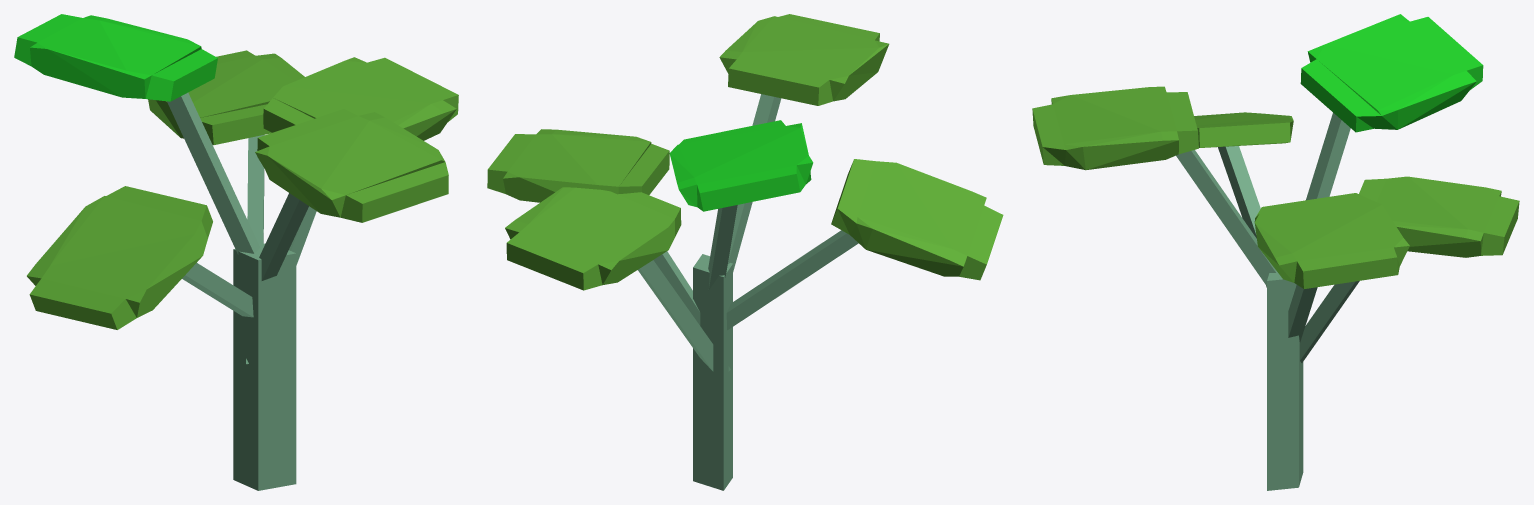
Rendered from ヤツデ面200.fbx.
3 renders of one model, left to right at view 1: azimuth 30°, elevation 25°; view 2: azimuth 150°, elevation 25°; view 3: azimuth 270°, elevation 25°, orthographic. The views are drawn at different scales.
Visible parts, largest first — view 1: 立方体.005, 立方体.004, 立方体.031, 立方体.007, 立方体.010, 立方体.002, 立方体.008, 立方体.001, 立方体.006, 立方体.003, 立方体.009; view 2: 立方体.005, 立方体.002, 立方体.004, 立方体.010, 立方体.007, 立方体.031, 立方体.006, 立方体.003, 立方体.008, 立方体.001, 立方体.009; view 3: 立方体.007, 立方体.004, 立方体.010, 立方体.002, 立方体.031, 立方体.005, 立方体.001, 立方体.008, 立方体.006, 立方体.003, 立方体.009.
Boxes of the visible parts, <box> form: 立方体.005: <box>27,186,212,329</box>; 立方体.004: <box>255,109,448,222</box>; 立方体.031: <box>233,243,296,490</box>; 立方体.007: <box>14,14,217,101</box>; 立方体.010: <box>263,57,458,140</box>; 立方体.002: <box>148,50,304,145</box>; 立方体.008: <box>167,92,259,254</box>; 立方体.001: <box>259,193,308,280</box>; 立方体.006: <box>182,263,253,317</box>; 立方体.003: <box>246,134,264,364</box>; 立方体.009: <box>289,206,316,265</box>; 立方体.005: <box>831,159,1003,280</box>; 立方体.002: <box>505,187,681,290</box>; 立方体.004: <box>719,14,889,105</box>; 立方体.010: <box>487,129,669,202</box>; 立方体.007: <box>669,120,813,211</box>; 立方体.031: <box>693,254,732,490</box>; 立方体.006: <box>726,230,858,330</box>; 立方体.003: <box>638,260,730,371</box>; 立方体.008: <box>708,205,737,290</box>; 立方体.001: <box>727,94,781,271</box>; 立方体.009: <box>653,251,700,325</box>; 立方体.007: <box>1300,14,1483,132</box>; 立方体.004: <box>1032,86,1198,170</box>; 立方体.010: <box>1254,193,1409,288</box>; 立方体.002: <box>1359,176,1519,257</box>; 立方体.031: <box>1267,271,1303,490</box>; 立方体.005: <box>1194,112,1293,147</box>; 立方体.001: <box>1176,150,1276,285</box>; 立方体.008: <box>1306,113,1350,200</box>; 立方体.006: <box>1218,146,1266,287</box>; 立方体.003: <box>1300,281,1359,362</box>; 立方体.009: <box>1288,285,1317,342</box>.
Bounding box in the file's own units: 753 × 660 × 744.
